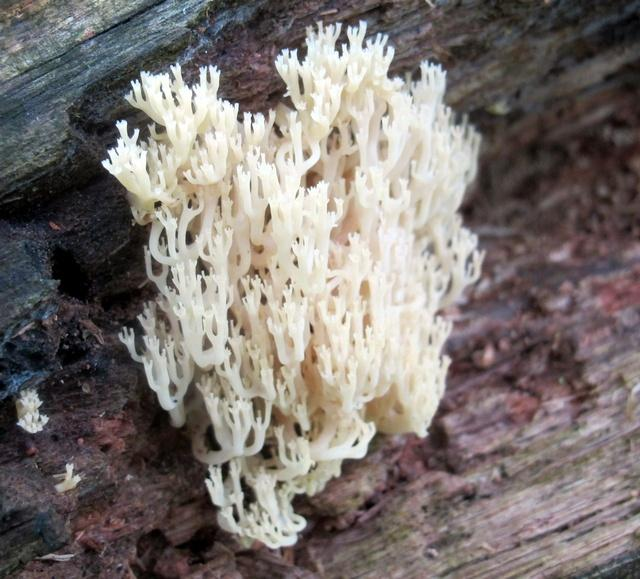edible_mushroom: (99, 18, 487, 550)
